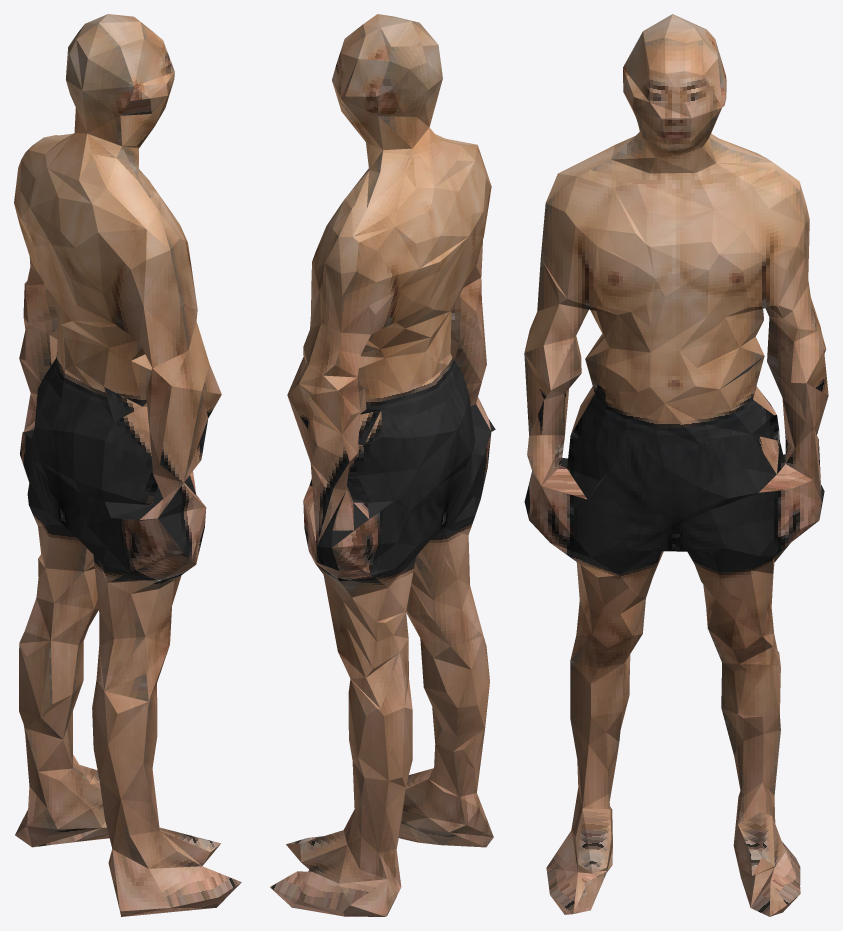
File: hombre_1.glb
3 renders of one model, left to right at view 1: azimuth 30°, elevation 25°; view 2: azimuth 150°, elevation 25°; view 3: azimuth 270°, elevation 25°, orthographic.
Visible parts, largest first — view 1: personaje.base.cuerpo_comun; view 2: personaje.base.cuerpo_comun; view 3: personaje.base.cuerpo_comun.
Part boxes in pixels (x1,y1,x2,y2): personaje.base.cuerpo_comun: [14, 14, 241, 916]; personaje.base.cuerpo_comun: [270, 14, 495, 916]; personaje.base.cuerpo_comun: [524, 14, 828, 916].
Size of the model in its own units: 0.3022 by 1.71 by 0.5405.
1 material, 1 textured.
